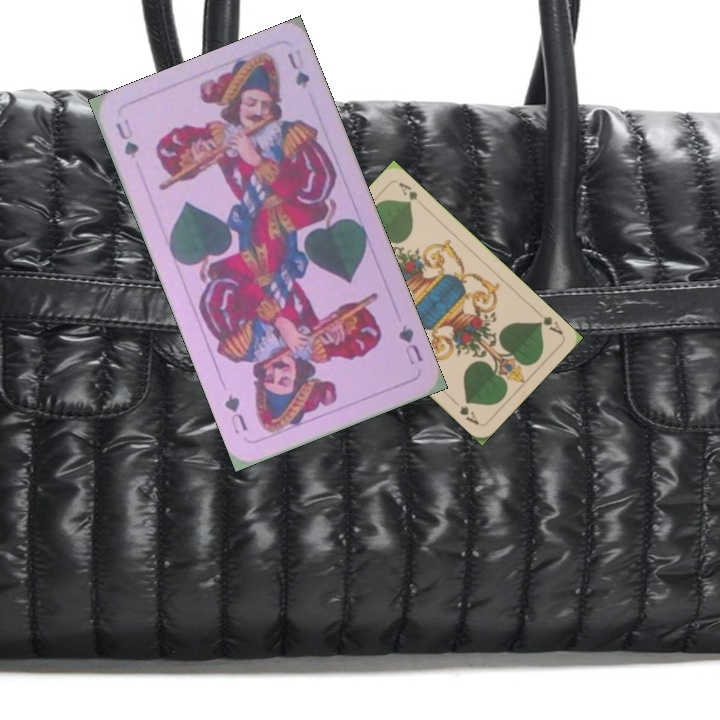GA: (531, 306, 565, 337)
GU: (394, 320, 425, 367), (112, 114, 141, 161)
